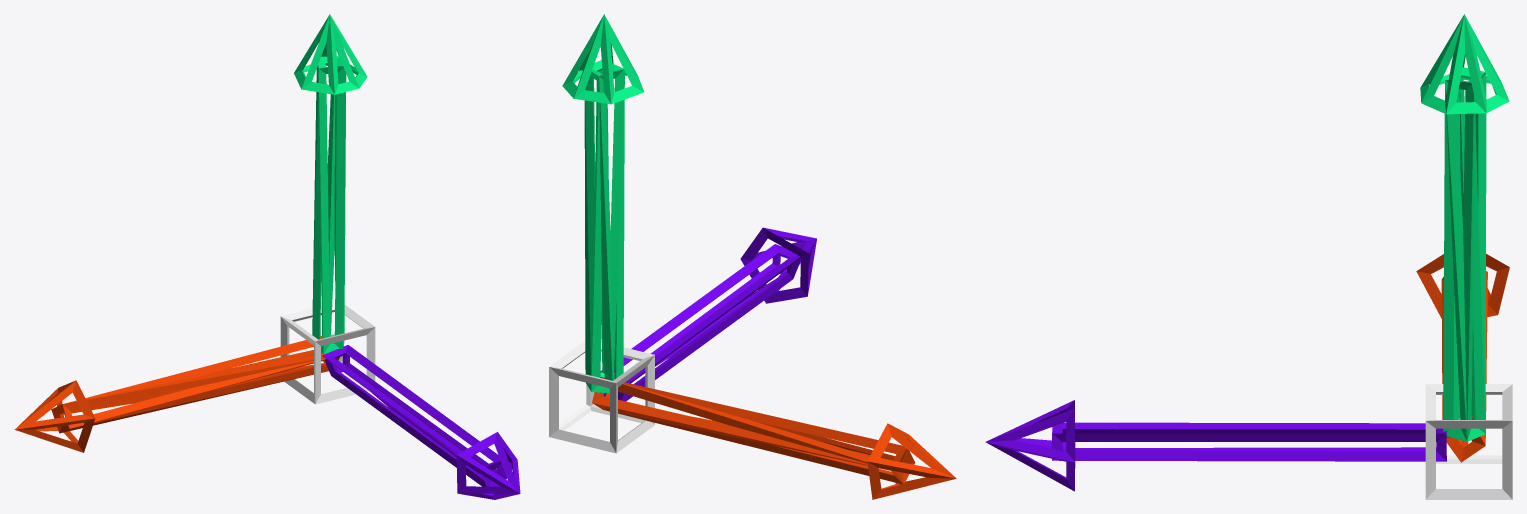
The model's file is gizmo.glb.
3 views of the same model, side by side, from view 1: azimuth 30°, elevation 25°; view 2: azimuth 150°, elevation 25°; view 3: azimuth 270°, elevation 25° (orthographic). The views are drawn at different scales.
Parts seen in each view (by area): view 1: polySurface5, polySurface1, polySurface3, polySurface7, polySurface6, polySurface4, polySurface2; view 2: polySurface5, polySurface1, polySurface3, polySurface7, polySurface6, polySurface2, polySurface4; view 3: polySurface5, polySurface3, polySurface7, polySurface6, polySurface4, polySurface2, polySurface1.
Part boxes in pixels (x1,y1,x2,y2): polySurface5: (312, 56, 346, 353); polySurface1: (51, 336, 339, 433); polySurface3: (322, 345, 506, 486); polySurface7: (280, 303, 375, 404); polySurface6: (294, 14, 367, 94); polySurface4: (456, 432, 520, 499); polySurface2: (14, 380, 95, 452); polySurface5: (584, 60, 624, 393); polySurface1: (592, 377, 915, 484); polySurface3: (600, 244, 800, 401); polySurface7: (549, 341, 654, 453); polySurface6: (562, 14, 643, 104); polySurface2: (867, 423, 956, 499); polySurface4: (740, 227, 816, 303); polySurface5: (1443, 67, 1486, 441); polySurface3: (1052, 422, 1446, 461); polySurface7: (1425, 384, 1512, 499); polySurface6: (1420, 14, 1509, 114); polySurface4: (985, 400, 1075, 491); polySurface2: (1416, 254, 1509, 318); polySurface1: (1441, 271, 1487, 462).
Size of the model in its own units: 0.1859 by 0.1912 by 0.1939.
